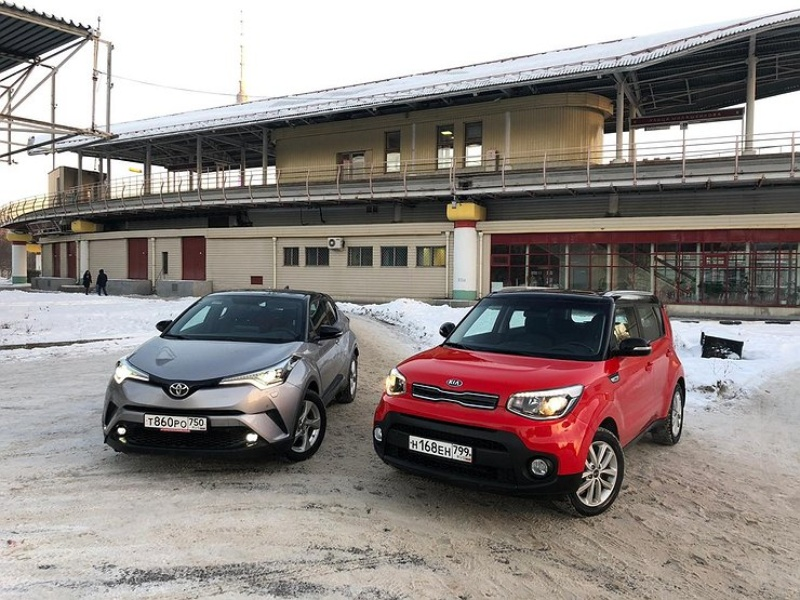car: (374, 287, 685, 516), (102, 289, 360, 462)
person: (96, 269, 108, 297), (83, 270, 93, 295)
plate: (409, 434, 472, 464), (143, 414, 206, 429)
